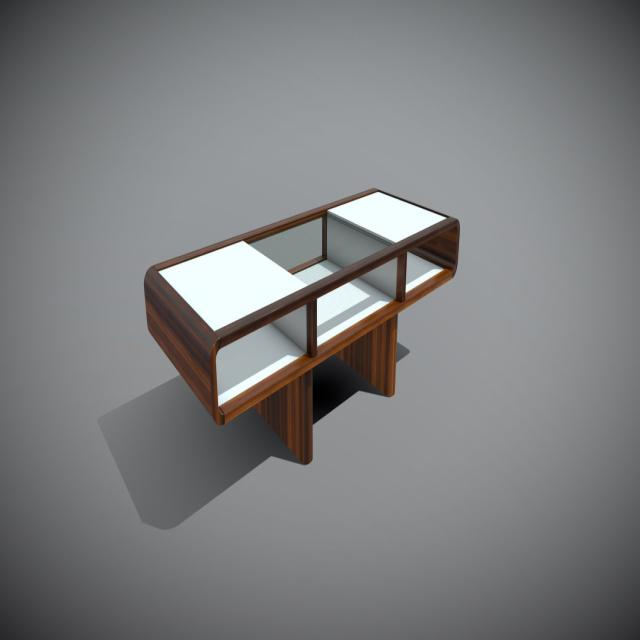table: (144, 180, 461, 462)
